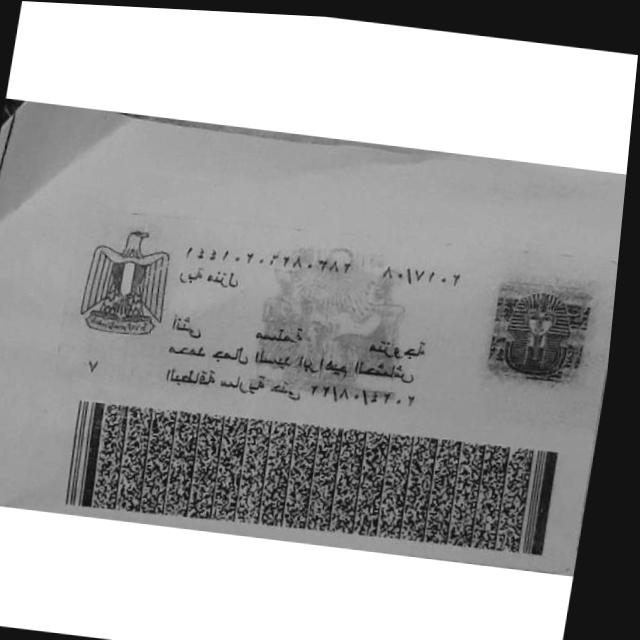back: (0, 104, 626, 572)
